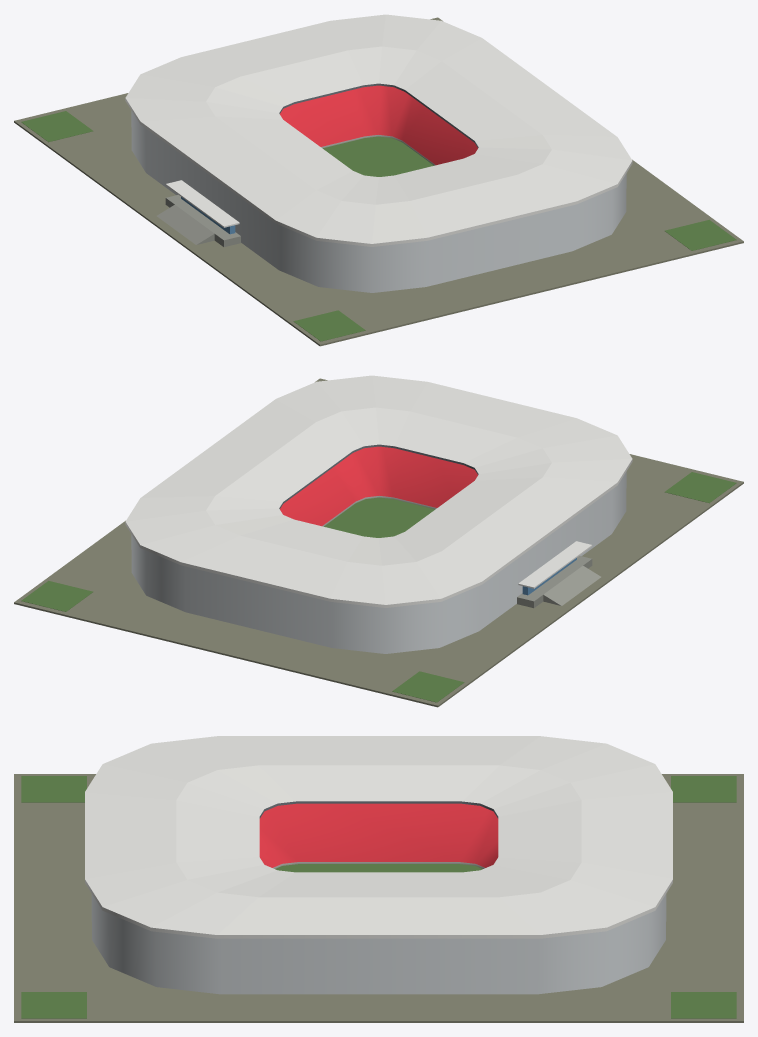
File: far.fbx
3 renders of one model, top to bottom at view 1: azimuth 30°, elevation 25°; view 2: azimuth 150°, elevation 25°; view 3: azimuth 270°, elevation 25°, orthographic. The views are drawn at different scales.
Parts seen in each view (by area): view 1: a1093/0/far; view 2: a1093/0/far; view 3: a1093/0/far.
Part boxes in pixels (x1=…): a1093/0/far: x1=14, y1=14, x2=743, y2=346; a1093/0/far: x1=14, y1=375, x2=743, y2=707; a1093/0/far: x1=14, y1=736, x2=743, y2=1022.
Bounding box in the file's own units: 320 × 41.2 × 400.
